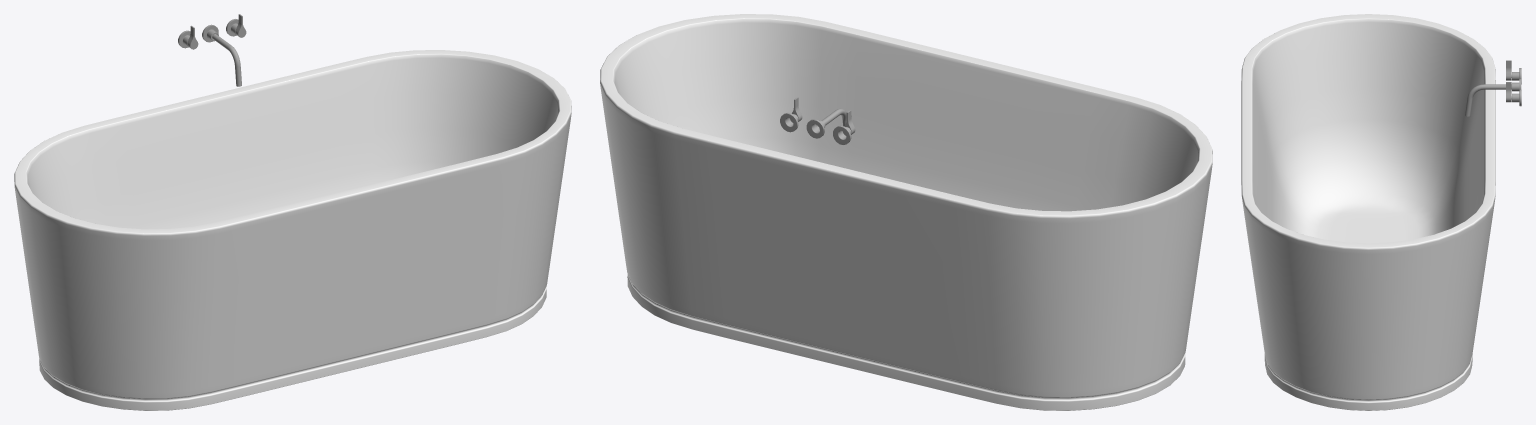
Rendered from bk_bathtub.glb.
The picture shows the model from 3 angles, left to right: view 1: azimuth 30°, elevation 25°; view 2: azimuth 150°, elevation 25°; view 3: azimuth 270°, elevation 25°; orthographic projection. The views are drawn at different scales.
Visible parts, largest first — view 1: generic-bathtub; view 2: generic-bathtub; view 3: generic-bathtub.
Boxes of the visible parts, box(x1,y1,x2,y2) form: generic-bathtub: box(14, 14, 571, 410); generic-bathtub: box(600, 14, 1212, 410); generic-bathtub: box(1241, 14, 1521, 410).
Bounding box in the file's own units: 1.74 × 0.8046 × 0.8796.
2 materials, 2 textured.
